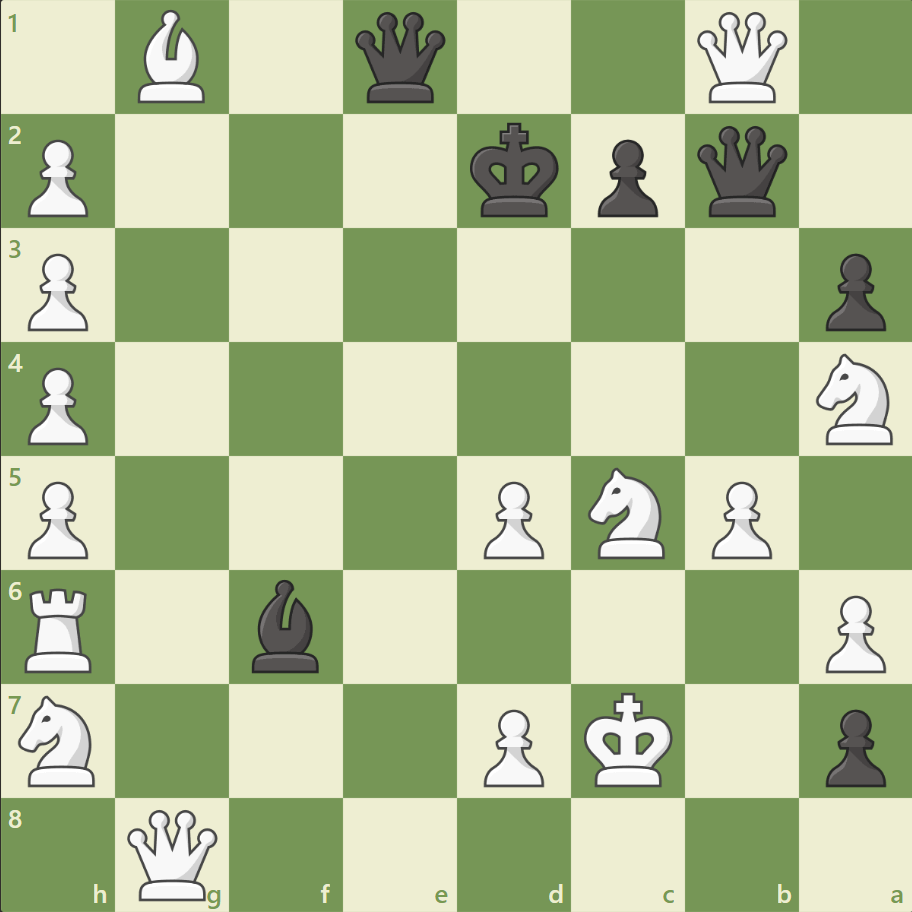B: (131, 6, 215, 109)
K: (579, 685, 679, 793)
N: (11, 688, 108, 791), (579, 461, 676, 564), (806, 348, 903, 450)
P: (474, 700, 549, 791), (701, 473, 776, 564), (474, 473, 549, 564), (20, 473, 95, 564), (20, 359, 95, 450), (20, 246, 95, 337), (20, 132, 95, 223), (815, 586, 889, 677)
Q: (124, 804, 223, 903), (691, 9, 790, 108)
R: (19, 579, 102, 676)
b: (244, 574, 328, 676)
k: (465, 117, 565, 225)
p: (815, 700, 889, 791), (815, 246, 889, 337), (588, 132, 662, 223)
q: (691, 122, 790, 222), (351, 9, 450, 108)
